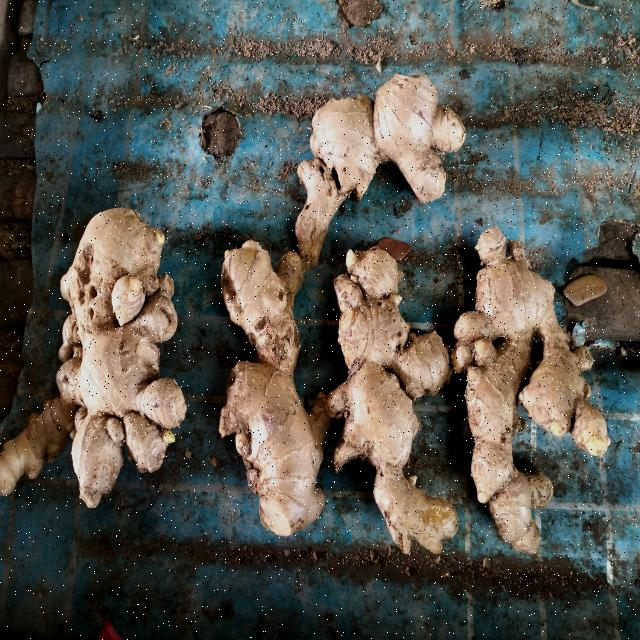ginger: (0, 202, 182, 564), (458, 236, 620, 569), (326, 251, 448, 586), (207, 229, 332, 551), (280, 68, 478, 252)
